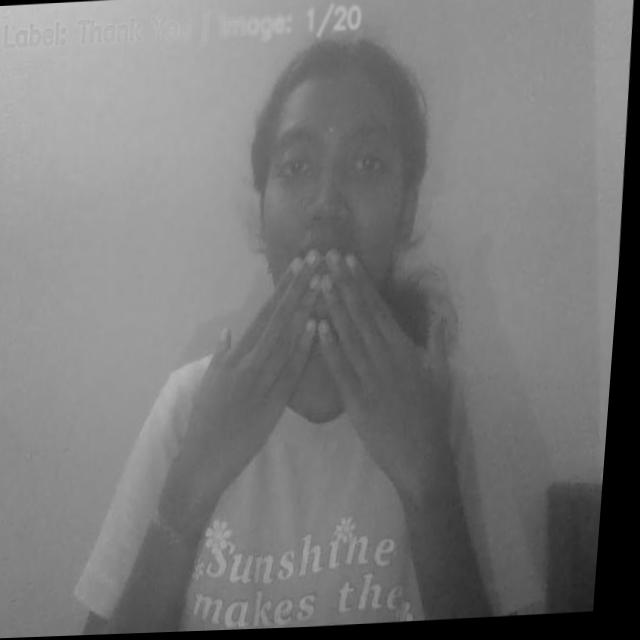Thank You: (166, 241, 491, 506)
